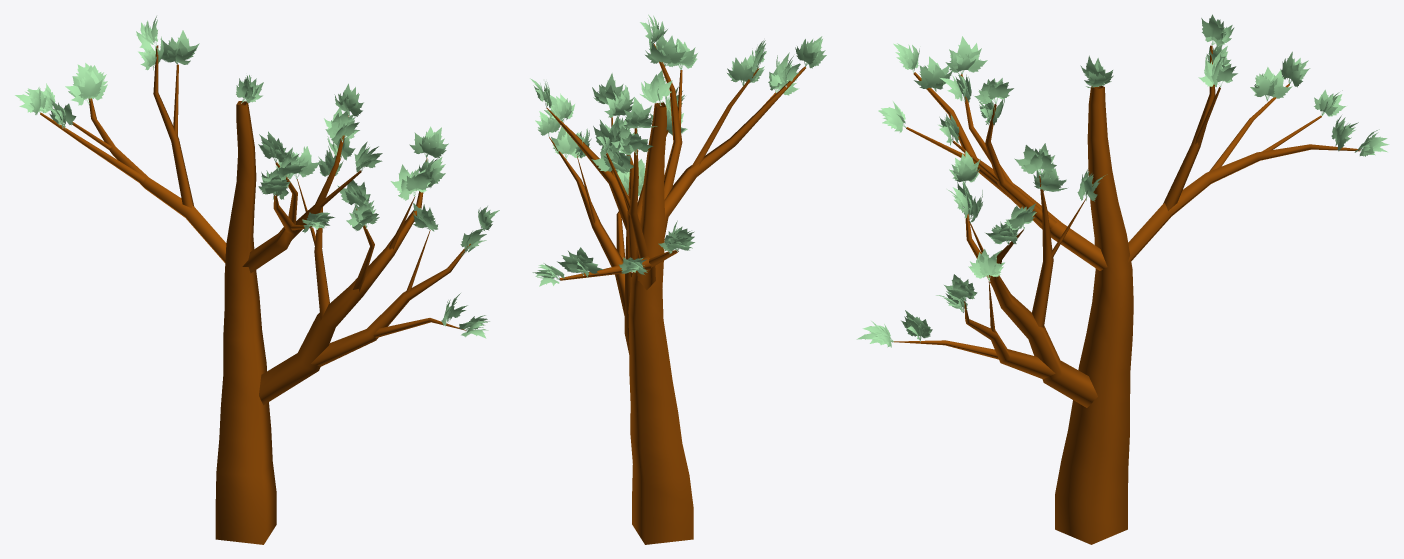
The model's file is FinalTree23.fbx.
The picture shows the model from 3 angles, left to right: view 1: azimuth 30°, elevation 25°; view 2: azimuth 150°, elevation 25°; view 3: azimuth 270°, elevation 25°; orthographic projection. The views are drawn at different scales.
Parts seen in each view (by area): view 1: Árbol; view 2: Árbol; view 3: Árbol.
Boxes of the visible parts, x1=… form: Árbol: x1=40, y1=45, x2=470, y2=544; Árbol: x1=546, y1=44, x2=805, y2=544; Árbol: x1=894, y1=45, x2=1360, y2=544.
Bounding box in the file's own units: 348 × 506 × 489.
